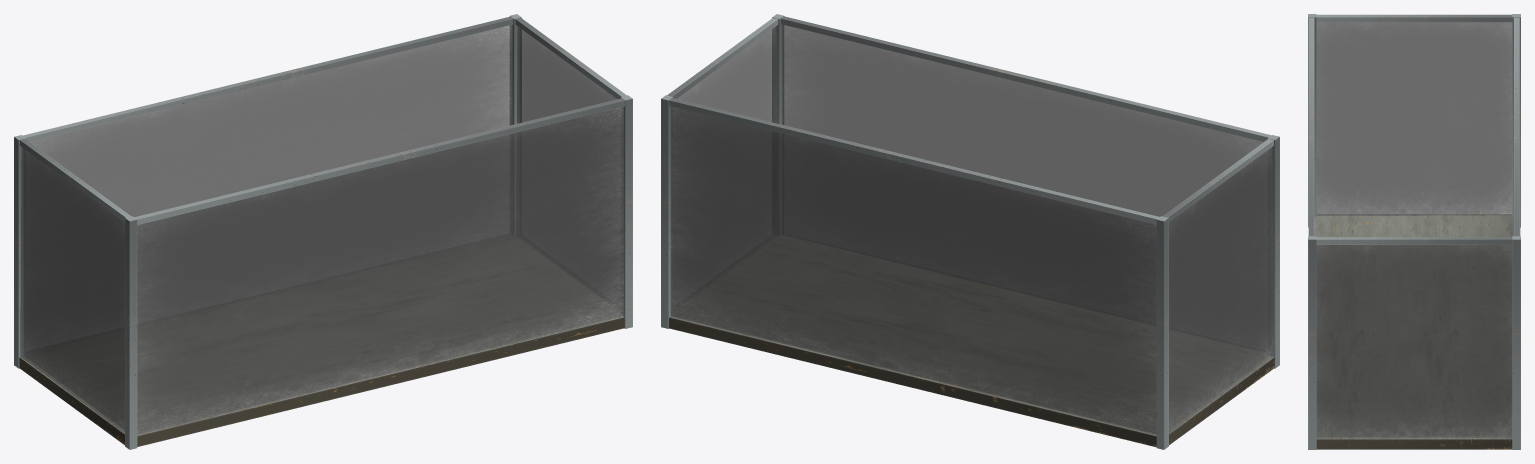
File: cabin08b.fbx
3 views of the same model, side by side, from view 1: azimuth 30°, elevation 25°; view 2: azimuth 150°, elevation 25°; view 3: azimuth 270°, elevation 25° (orthographic). The views are drawn at different scales.
Parts seen in each view (by area): view 1: cabin08b; view 2: cabin08b; view 3: cabin08b.
Boxes of the visible parts, <box> form: cabin08b: <box>14,14,632,449</box>; cabin08b: <box>661,14,1279,449</box>; cabin08b: <box>1308,14,1520,449</box>.
Bounding box in the file's own units: 133 × 57.84 × 53.11.
